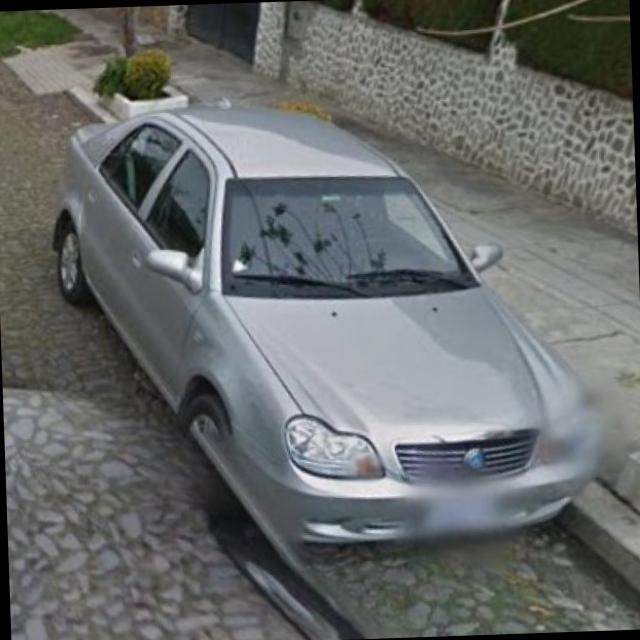car: (62, 76, 613, 594)
